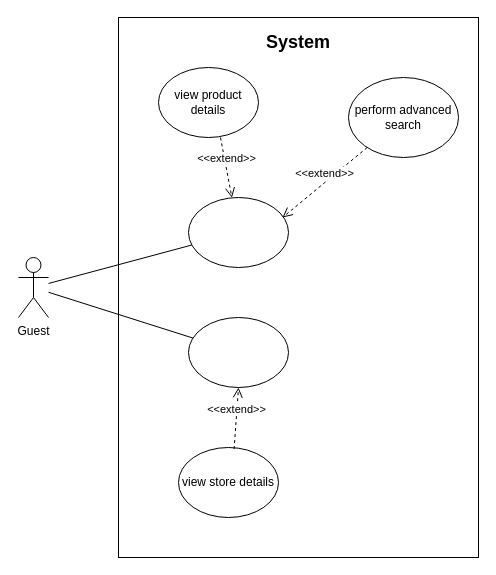
Some shapes in this 496 by 575 pixel diagram are drawn without their labels. The centre of each missing label's shape, as x and y in pixels:
browse products: the point at 238,232
browse stores: the point at 238,352
